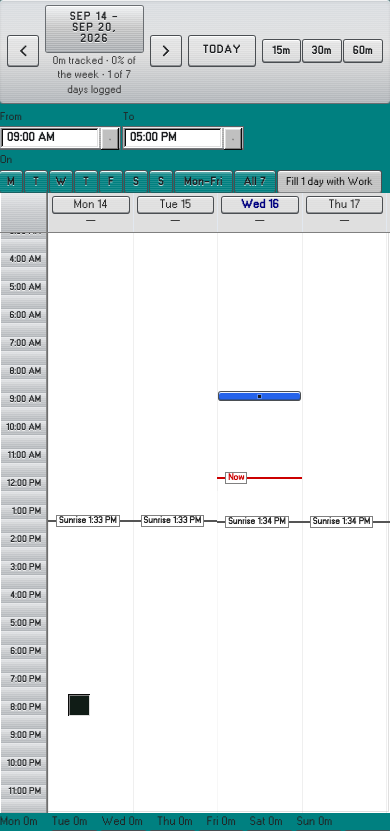
it: week discrete events › draws a tick for an instant and opens it
(page scrolled)
Click the button named "sunrise" at coordinates (260, 396), box x1=219 y1=392 x2=300 y2=400
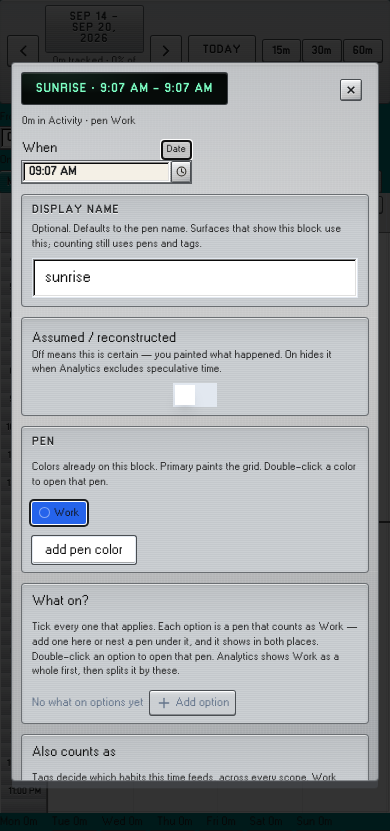
Result: the dialog is shown
